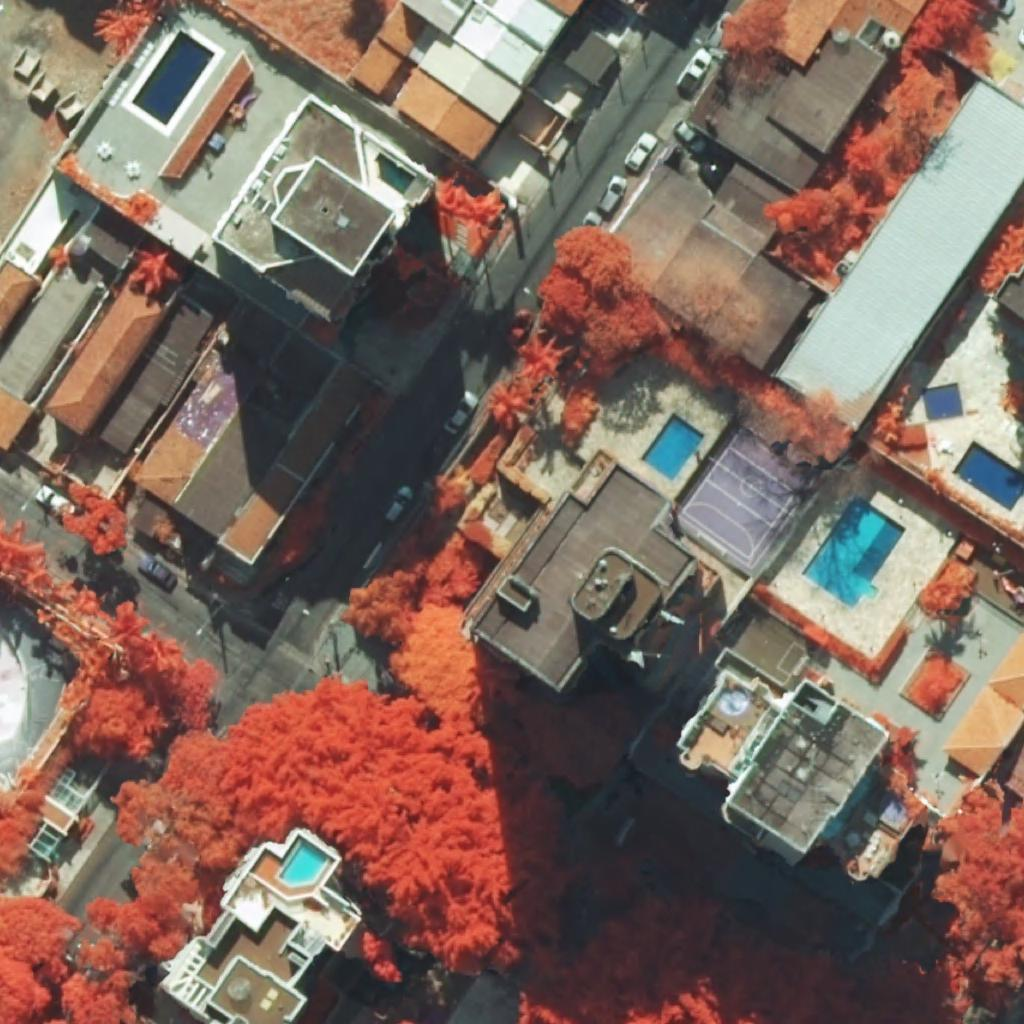pool: (802, 495, 906, 608), (132, 30, 215, 125), (952, 441, 1024, 512), (641, 413, 704, 481), (279, 841, 328, 884), (377, 154, 415, 195), (922, 383, 963, 420)
